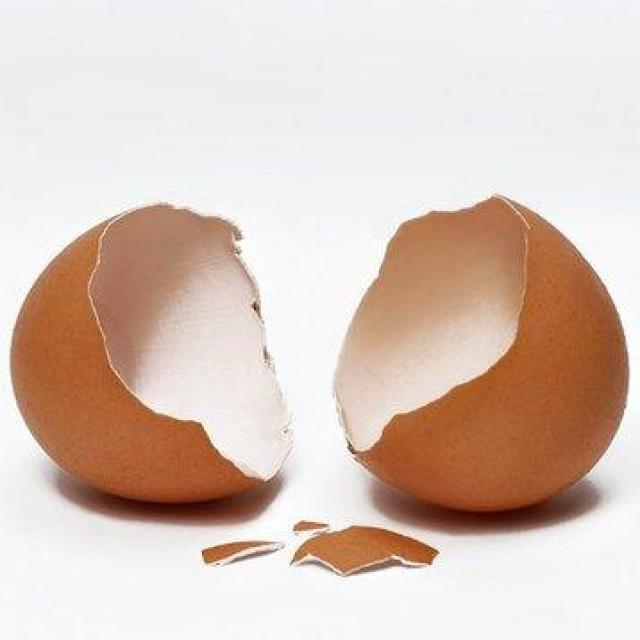organic: (333, 195, 633, 517), (11, 204, 295, 511), (290, 517, 440, 577), (202, 540, 288, 565)
